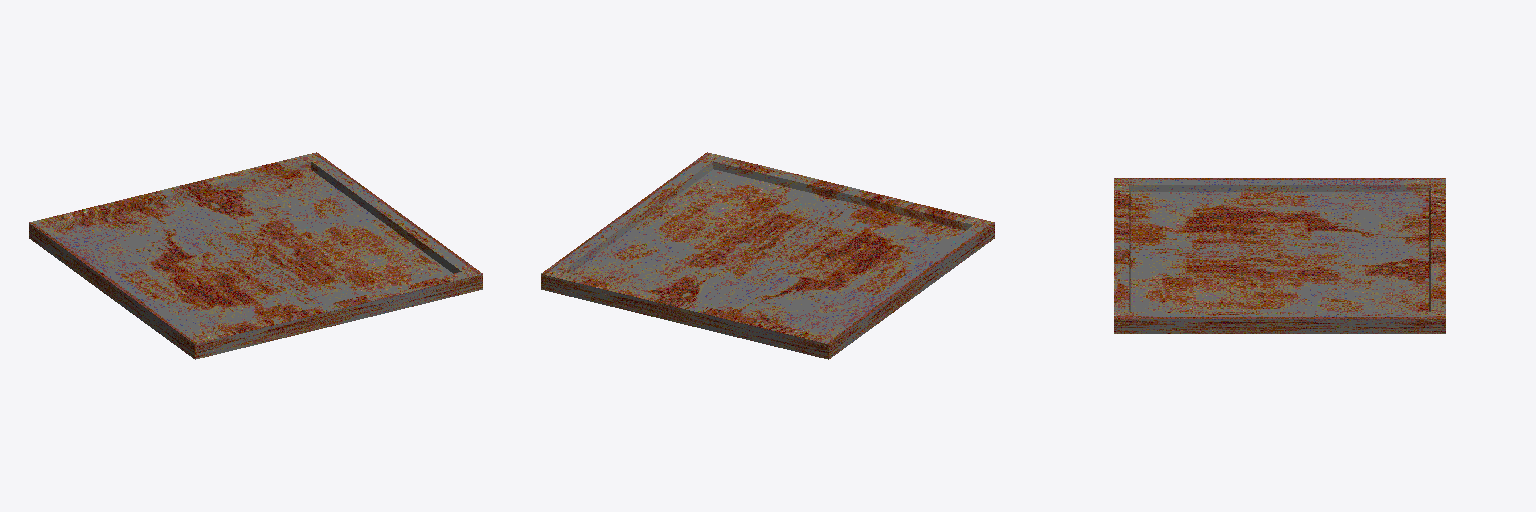
The picture shows the model from 3 angles: view 1: azimuth 30°, elevation 25°; view 2: azimuth 150°, elevation 25°; view 3: azimuth 270°, elevation 25°; orthographic projection.
Visible parts, largest first — view 1: Cube; view 2: Cube; view 3: Cube.
Part boxes in pixels (x1,y1,x2,y2): Cube: (29,152,482,359); Cube: (541,152,994,359); Cube: (1114,178,1445,333).
Bounding box in the file's own units: 31.97 × 1.64 × 31.97.
Materials: 1 (1 with a texture image).